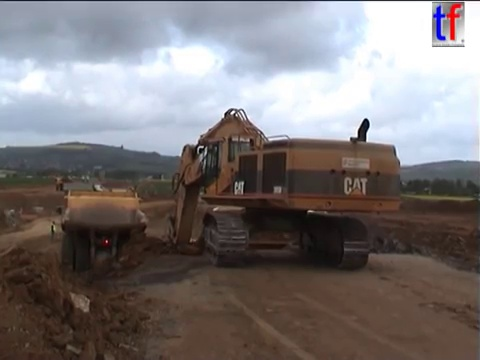excavator: (145, 105, 403, 282)
truck: (54, 183, 149, 274), (60, 180, 106, 197), (52, 175, 78, 191)
worker: (47, 219, 58, 244)
